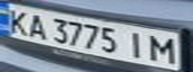3: (45, 16, 69, 45)
5: (100, 24, 124, 55)
7: (81, 21, 103, 52), (63, 19, 84, 47)
A: (21, 11, 51, 40)
I: (121, 28, 151, 60)
K: (3, 6, 33, 35)
M: (145, 33, 181, 65)
